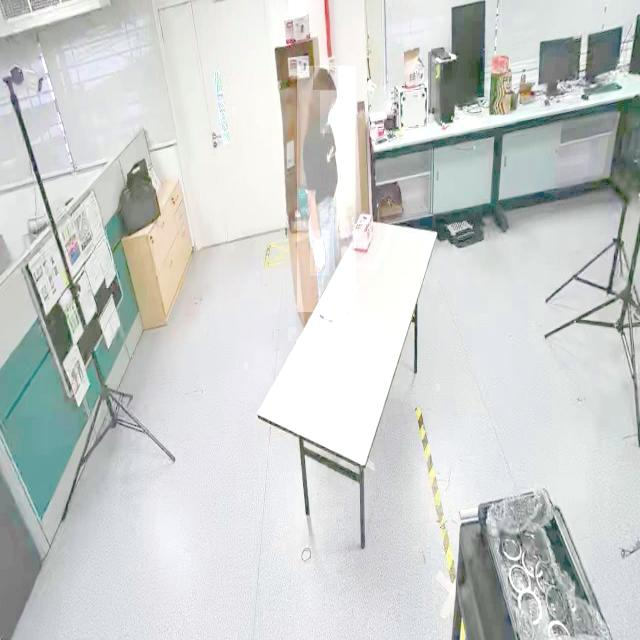face_mask: (320, 91, 339, 133)
hand_glove: (310, 230, 330, 276)
head_nohelmet: (312, 66, 338, 90)
person: (296, 66, 356, 313)
